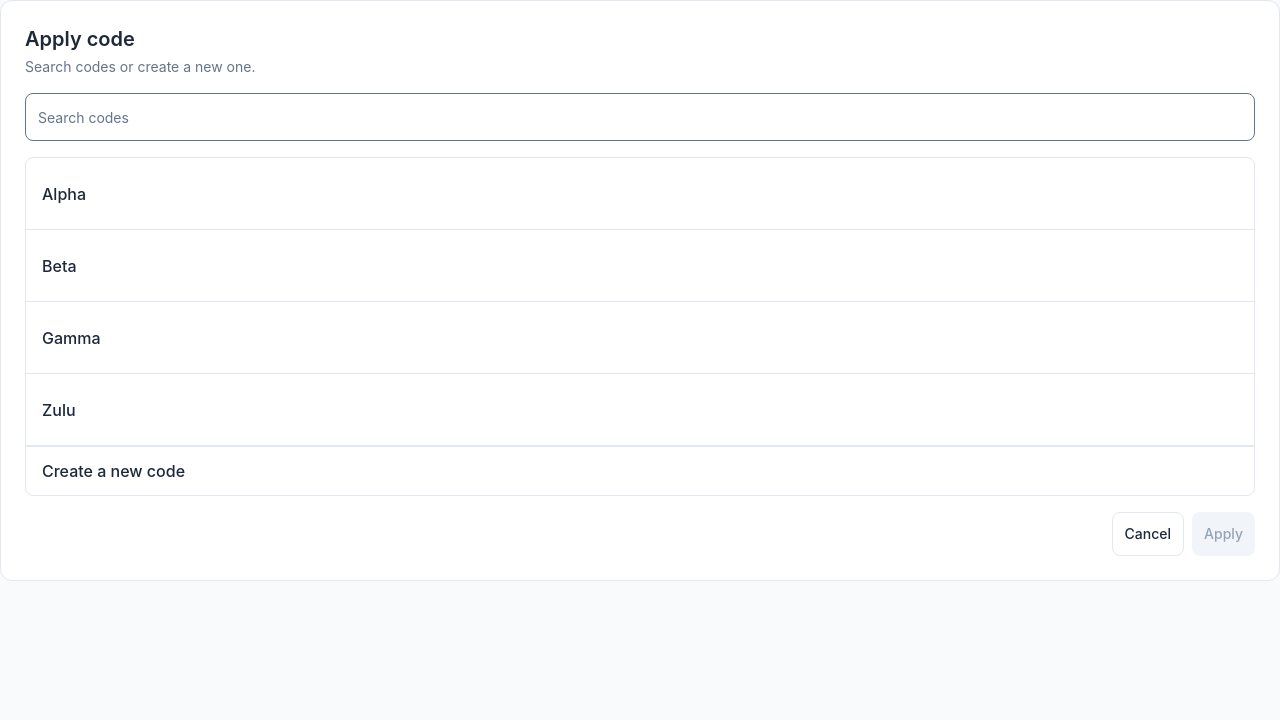
Test: Transcript Coding Research Objects › sorts selected codes first and alphabetizes both code groups
Click the option "Zulu" at (59, 410), box [26,374,1254,446]
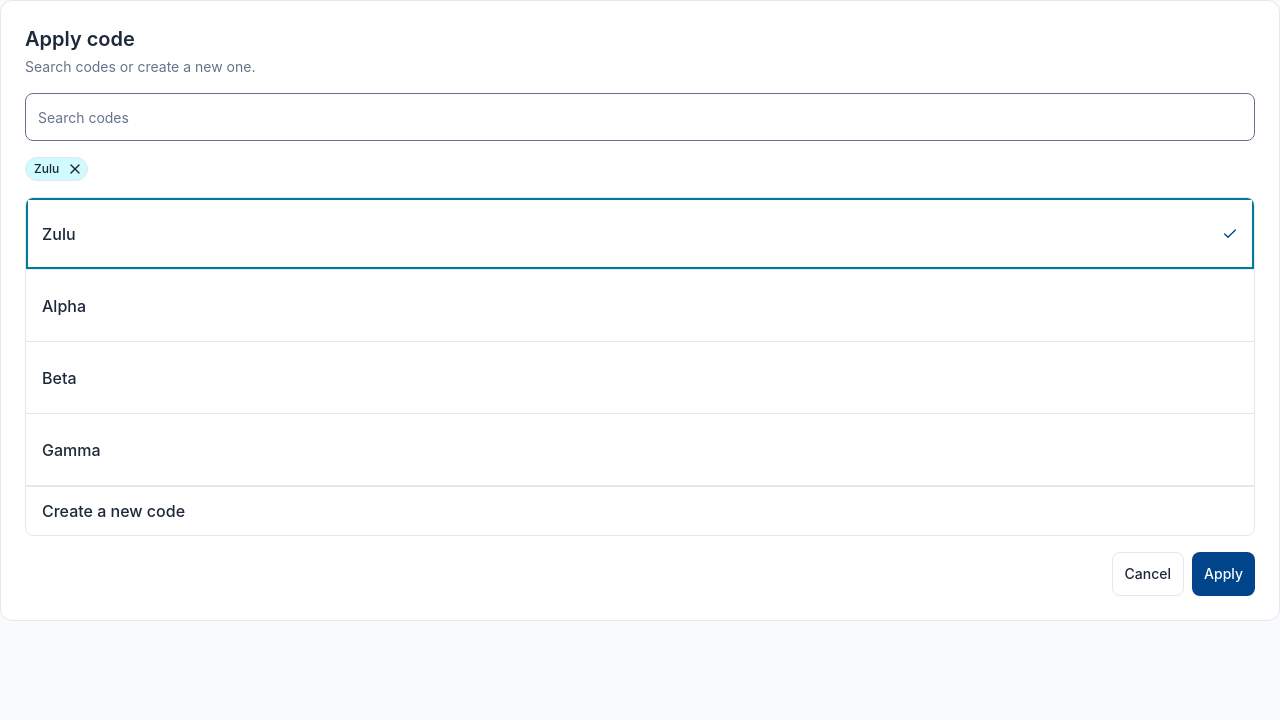
Click the option "Alpha" at (64, 306), box [26,270,1254,342]
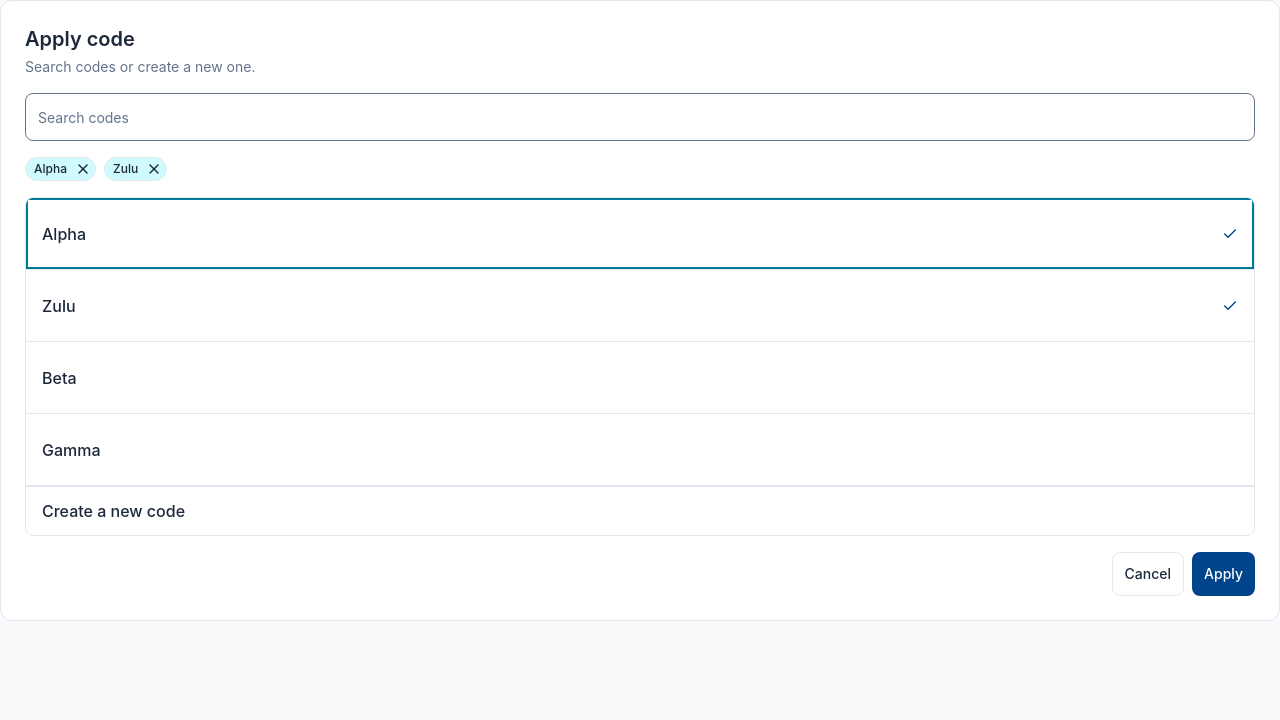
Check: the options read "Alpha", "Zulu", "Beta", "Gamma", in this order, box [26,198,1254,270]; [26,270,1254,342]; [26,342,1254,414]; [26,414,1254,486]
